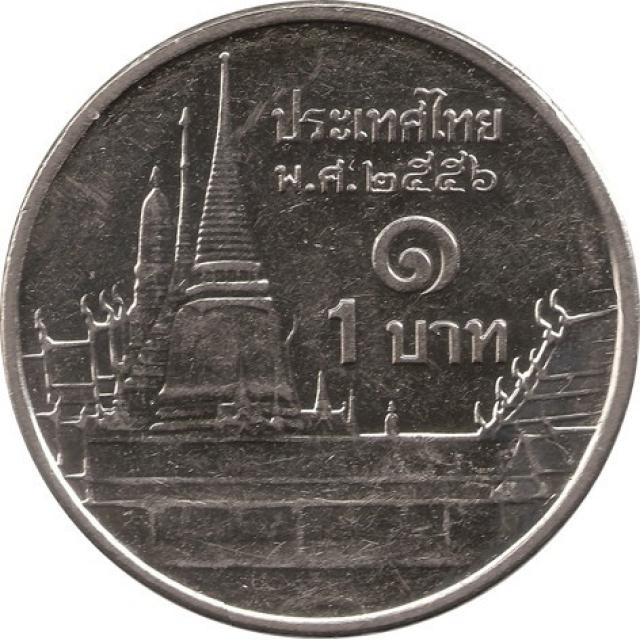1 Bath: (2, 1, 640, 640)
